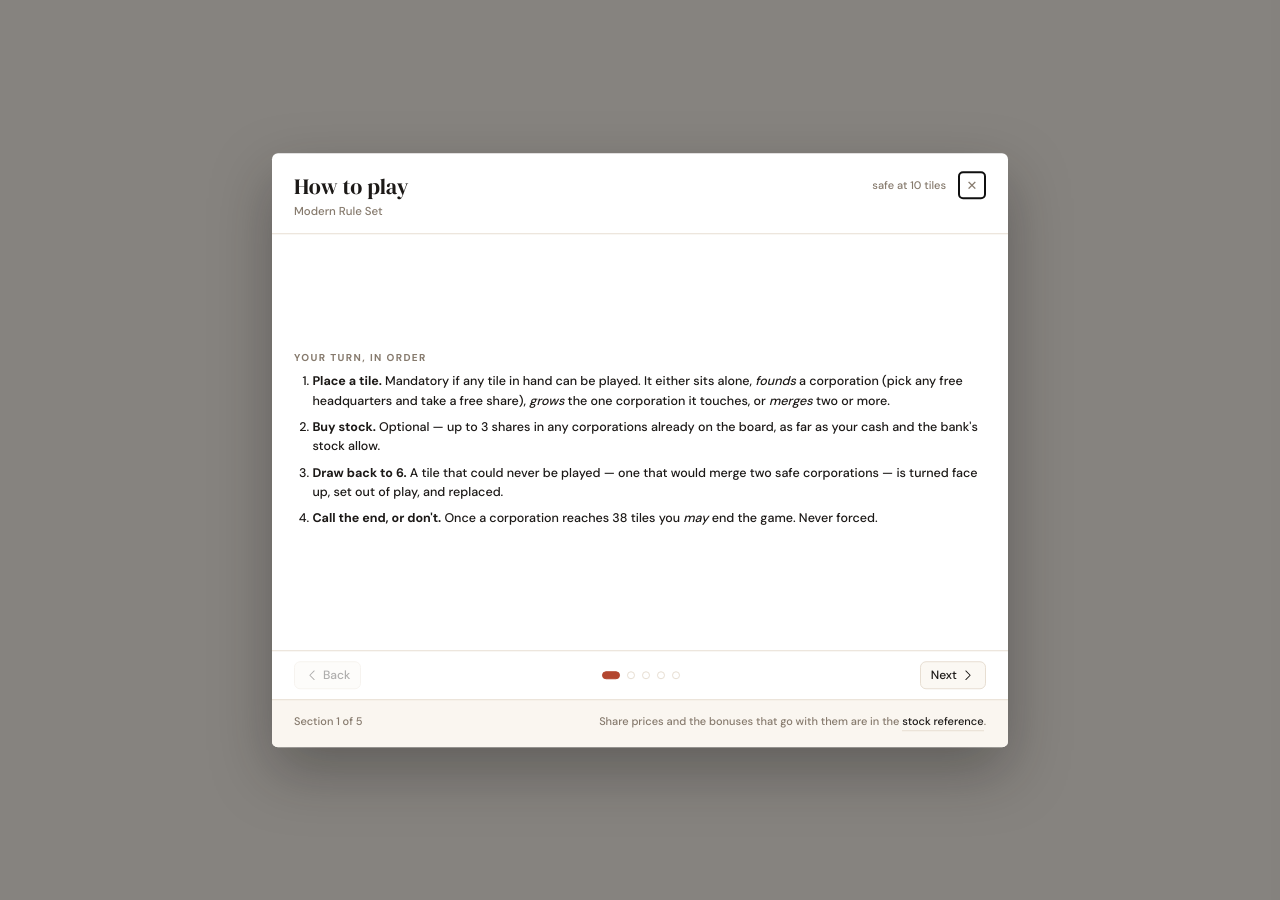
it: RulesReference modal › says something different under the 2015 edition — every edition-bound row moves
The width and height of the screenshot is (1280, 900).
Expected: the dialog "How to play" shows "Modern", [294,204,383,219]
Expected: the dialog "How to play" shows "safe at 10 tiles", [872,178,946,192]
Click the button named "What Modern sets" at (676, 675), box [672,671,680,679]
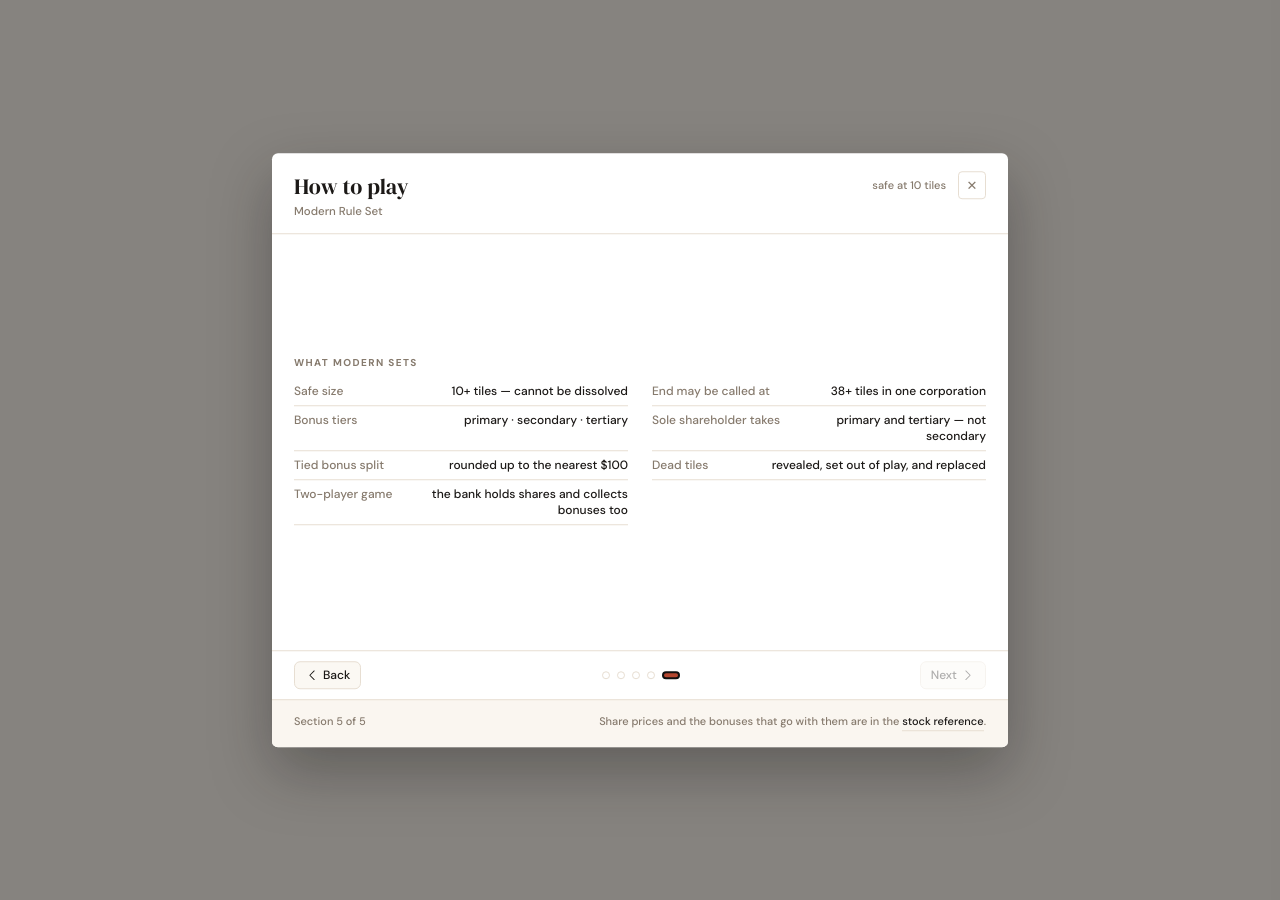
Expected: the dialog "How to play" shows "10+ tiles — cannot be dissolved", [452,383,628,399]
Expected: the dialog "How to play" shows "38+ tiles in one corporation", [831,383,986,399]
Expected: the dialog "How to play" shows "primary · secondary · tertiary", [464,412,628,428]
